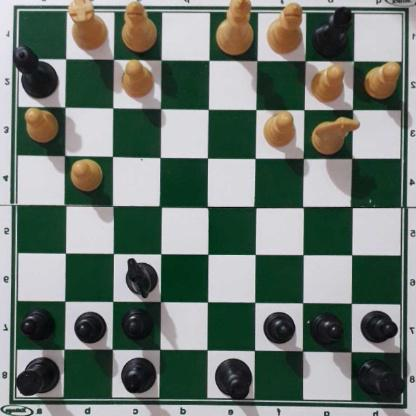black-bishop: (310, 6, 355, 60), (117, 357, 158, 394)
black-king: (212, 358, 253, 403)
black-knight: (123, 261, 156, 300)
black-pawn: (360, 311, 396, 347), (20, 312, 54, 344), (263, 313, 295, 347), (121, 311, 152, 346), (311, 315, 343, 348), (73, 312, 104, 346)
black-queen: (12, 45, 59, 101)
black-rook: (12, 358, 59, 401), (358, 362, 401, 407)
white-bishop: (265, 2, 304, 55), (120, 0, 158, 53)
white-king: (215, 0, 253, 56)
white-knight: (308, 117, 361, 157)
white-pawn: (308, 65, 346, 106), (67, 159, 105, 196), (119, 62, 155, 101), (363, 64, 400, 101), (22, 108, 58, 145), (262, 112, 295, 150)
white-rook: (66, 0, 108, 52)
